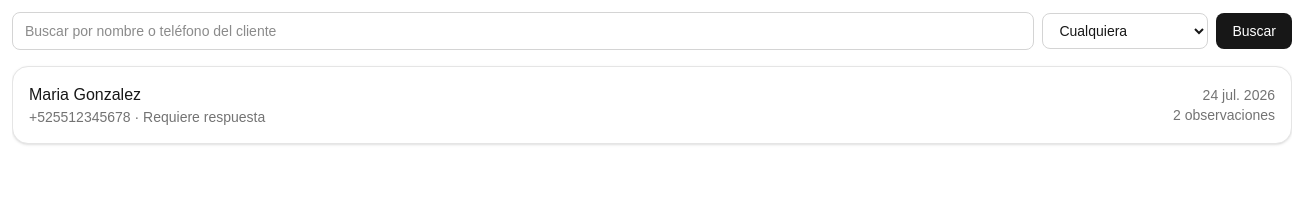
Test: ConversationPicker › shows the error message and keeps prior results when the action fails
The image size is (1304, 198).
Step 1. Click the button "Buscar" → (1254, 31), box [1216, 13, 1292, 49]
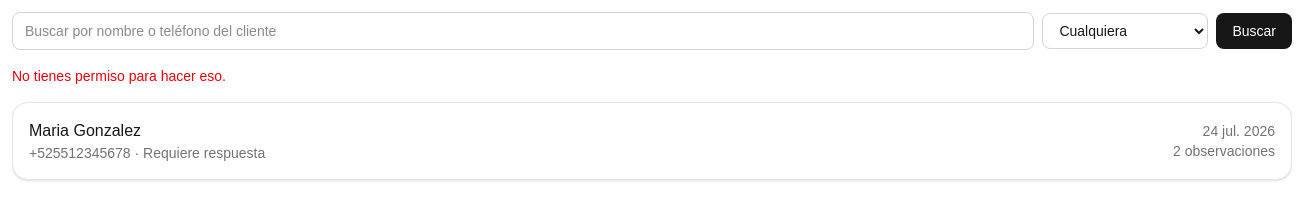
Check: the text "Maria Gonzalez" is shown, box [29, 122, 141, 139]
Check: the text "No tienes permiso para hacer eso." is shown, box [12, 68, 226, 84]
